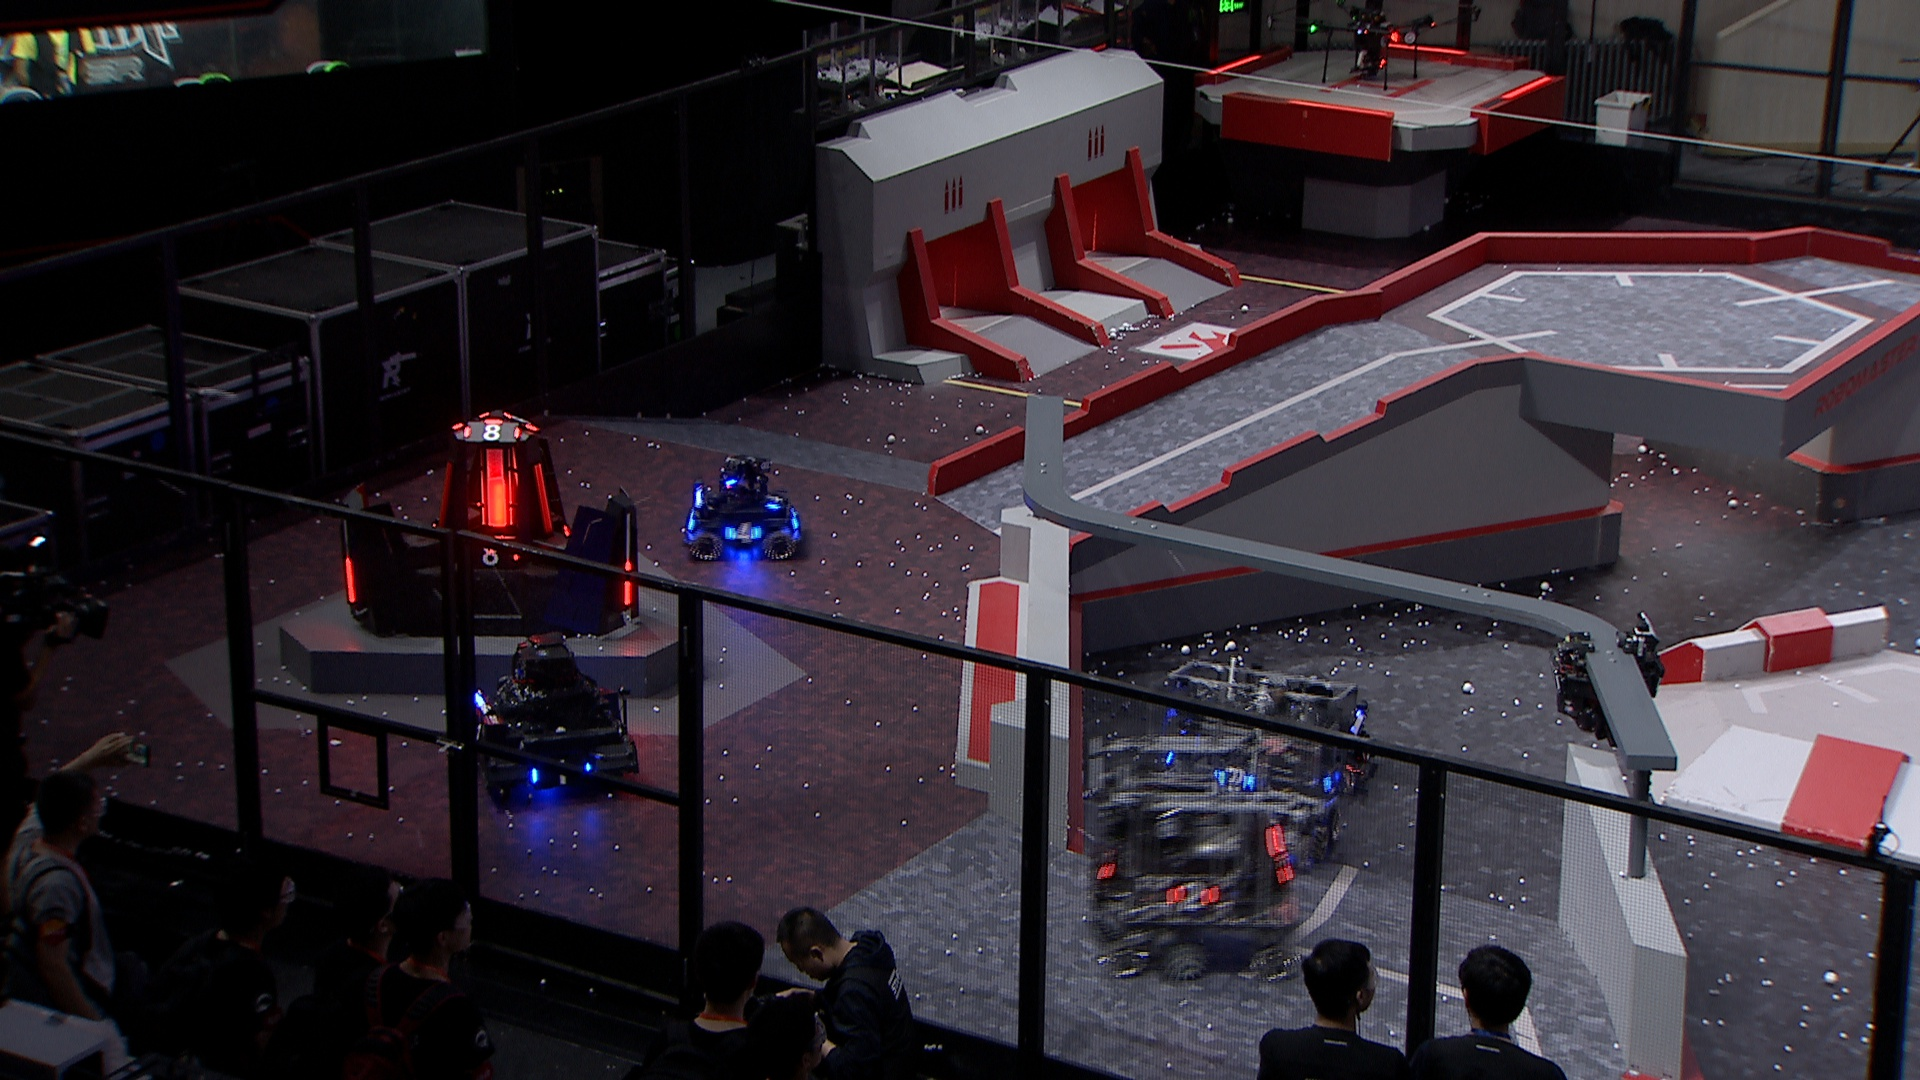armor: (476, 447, 518, 533), (468, 533, 526, 574), (526, 756, 596, 789), (527, 460, 555, 531), (1166, 880, 1218, 916), (430, 462, 458, 531), (1216, 765, 1261, 800), (460, 419, 522, 444), (1319, 764, 1349, 796), (723, 518, 760, 542), (465, 717, 489, 749), (344, 553, 357, 607), (622, 560, 637, 607), (764, 491, 790, 513)
base: (340, 404, 641, 640)
car: (1083, 728, 1309, 986), (1154, 661, 1361, 869), (460, 628, 638, 808), (675, 454, 808, 560)
watcher: (1552, 611, 1665, 742)
